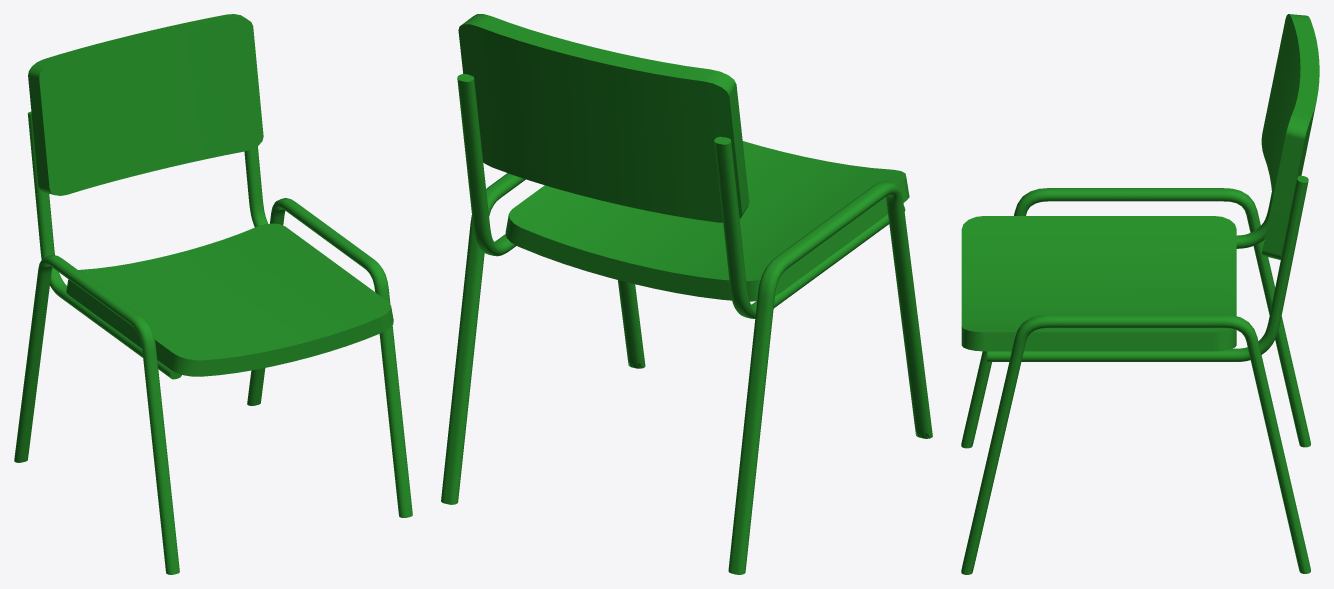
The picture shows the model from 3 angles, left to right: view 1: azimuth 30°, elevation 25°; view 2: azimuth 150°, elevation 25°; view 3: azimuth 270°, elevation 25°; orthographic projection. The views are drawn at different scales.
Visible parts, largest first — view 1: CHAIR JOIN; view 2: CHAIR JOIN; view 3: CHAIR JOIN.
Part boxes in pixels (x1,y1,x2,y2): CHAIR JOIN: (14, 14, 412, 574); CHAIR JOIN: (441, 14, 932, 574); CHAIR JOIN: (961, 14, 1319, 574).
Size of the model in its own units: 0.677 by 1.05 by 0.7687.
